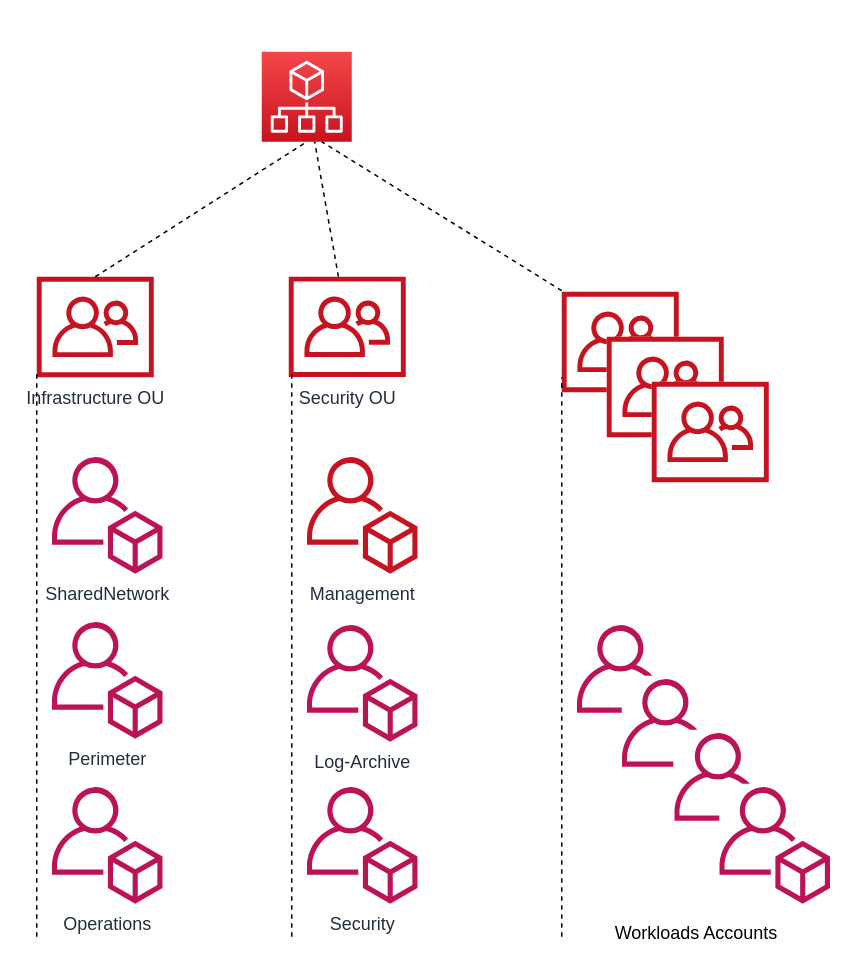
The diagram is 864 pixels wide and 971 high, and some of its shapes have lost their labels. Here are the shapes that lost their labels. From the top down, the box of each, then its label:
(260, 50, 352, 142): AWS Organization
(651, 381, 768, 482): Workloads OUs: Sandbox, Dev, Prod
